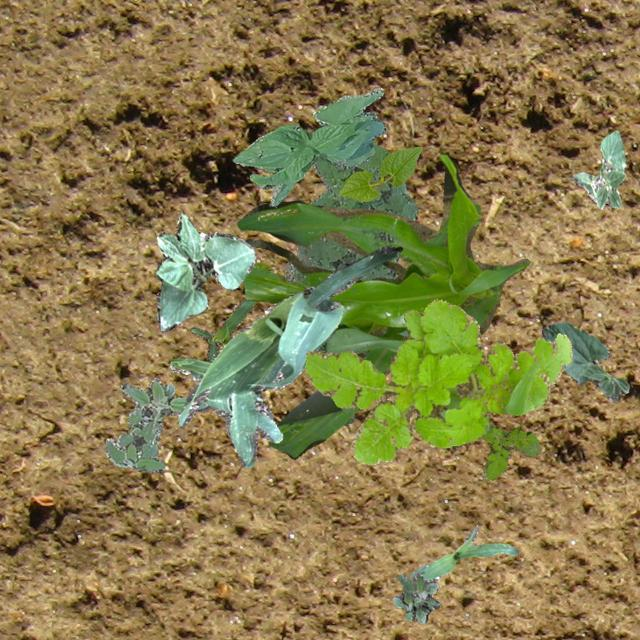crop: (236, 152, 528, 458), (168, 246, 402, 467), (232, 86, 384, 205), (154, 210, 254, 330), (540, 322, 628, 401), (408, 524, 518, 582), (338, 146, 421, 200), (188, 296, 254, 362), (572, 130, 624, 208)
weed: (304, 297, 572, 463), (283, 140, 431, 424), (104, 376, 210, 472), (479, 422, 538, 480), (392, 572, 440, 622)
